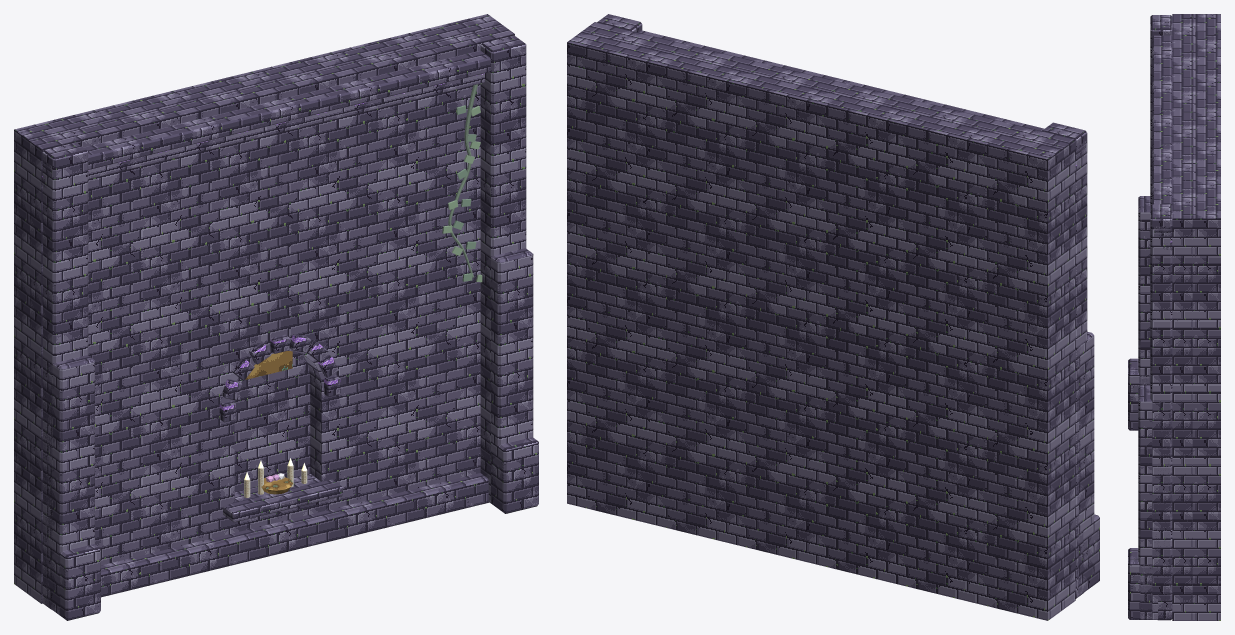
Rendered from tower_wall_plain.glb.
3 renders of one model, left to right at view 1: azimuth 30°, elevation 25°; view 2: azimuth 150°, elevation 25°; view 3: azimuth 270°, elevation 25°, orthographic. The views are drawn at different scales.
Visible parts, largest first — view 1: TowerWallPlain; view 2: TowerWallPlain; view 3: TowerWallPlain.
Part boxes in pixels (x1,y1,x2,y2): TowerWallPlain: (14, 14, 538, 620); TowerWallPlain: (567, 14, 1099, 620); TowerWallPlain: (1128, 14, 1220, 620).
Bounding box in the file's own units: 12 × 11 × 2.3.
Materials: 11 (4 with a texture image).
